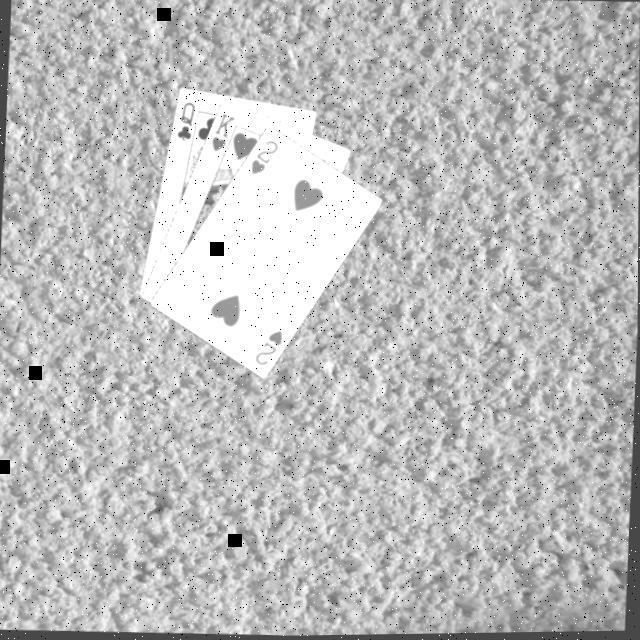2H: (254, 328, 288, 371), (248, 138, 282, 180)
KH: (208, 112, 240, 156)
QC: (174, 100, 200, 148)
